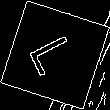L_NE: (25, 30, 85, 80)
